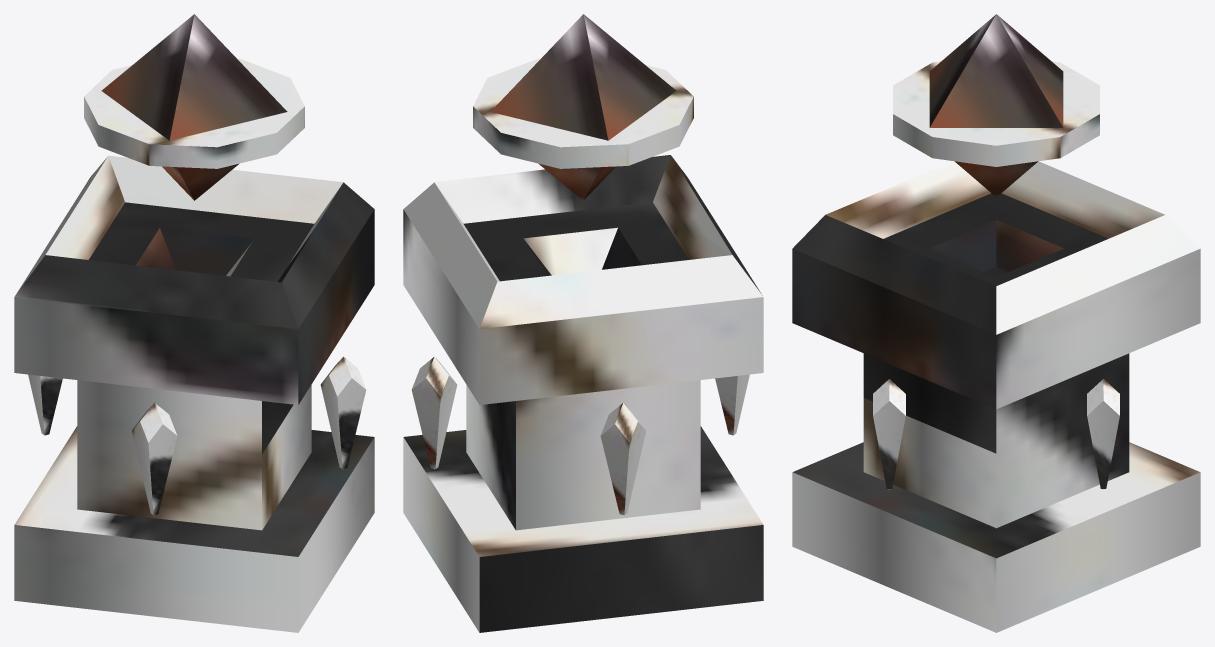
File: Earthtower.FBX
3 renders of one model, left to right at view 1: azimuth 30°, elevation 25°; view 2: azimuth 150°, elevation 25°; view 3: azimuth 270°, elevation 25°, orthographic.
Visible parts, largest first — view 1: Cylinder001; view 2: Cylinder001; view 3: Cylinder001.
Part boxes in pixels (x1,y1,x2,y2): Cylinder001: (14,14,374,632); Cylinder001: (403,14,763,632); Cylinder001: (792,14,1200,632).
Size of the model in its own units: 22.52 by 32.43 by 22.52.
